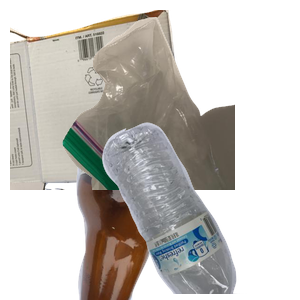cardboard: (10, 10, 191, 190)
glass: (60, 120, 300, 300)
plastic: (100, 120, 300, 300)
trash: (60, 14, 300, 194)
